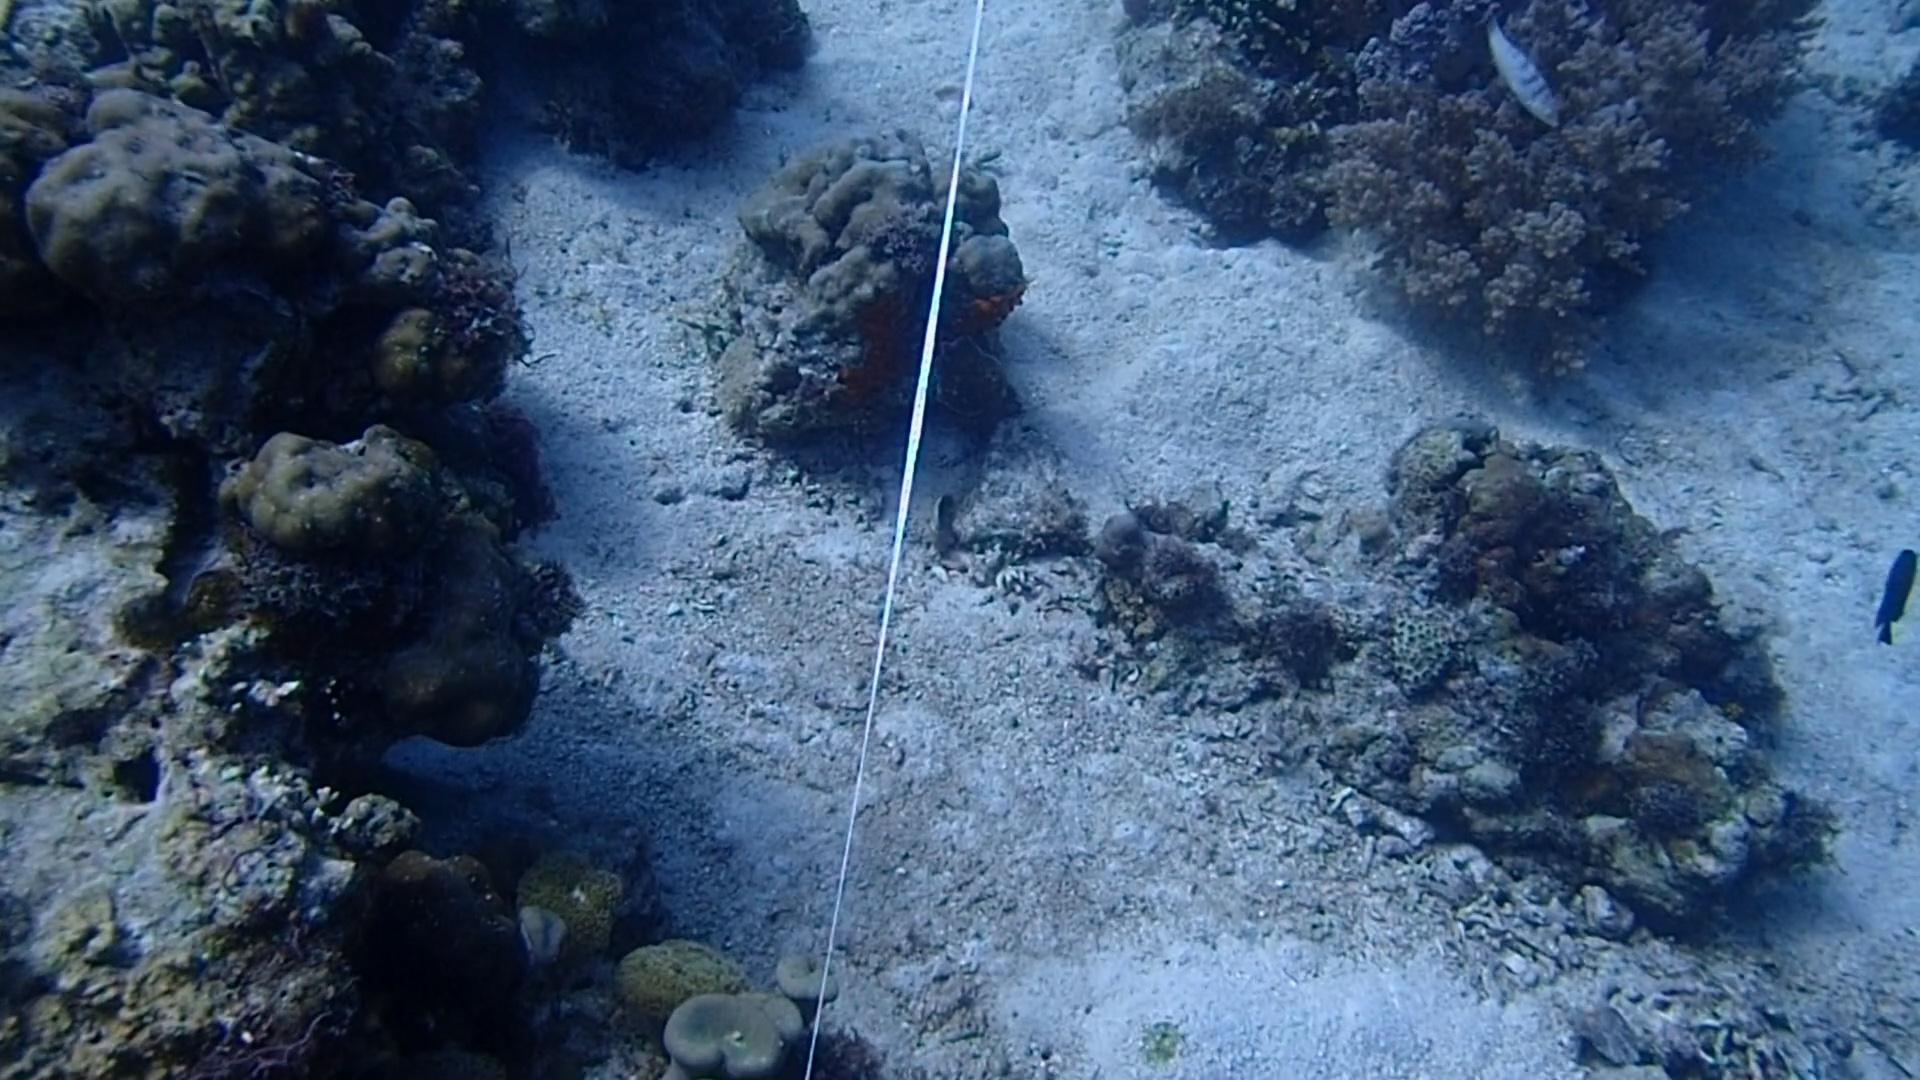Dark Fish: (1853, 539, 1920, 654)
Light Fish w Back Stripes: (1480, 13, 1568, 129)
